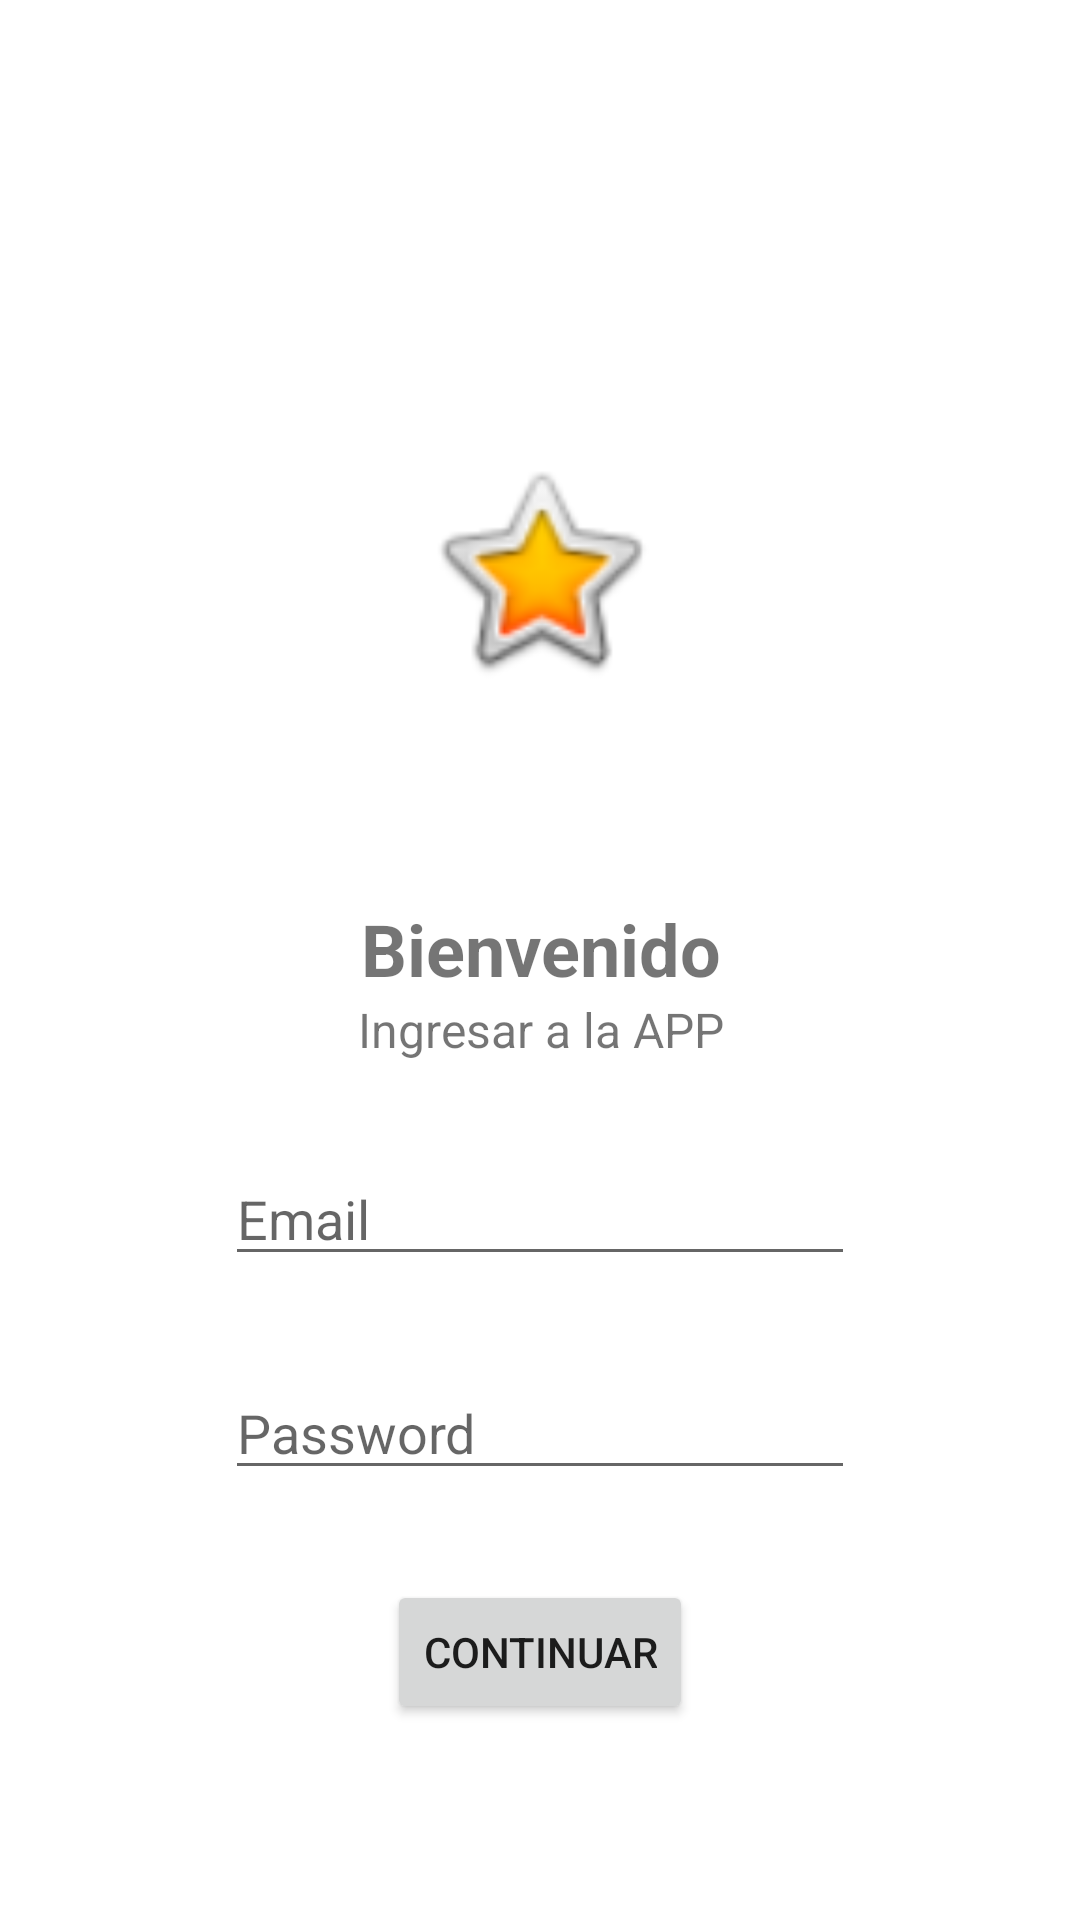

Named icons in this screenshot (1080 × 1920) and their bounding boxes, (x1, y1, x2, y2):
star on: (442, 474, 642, 670)
